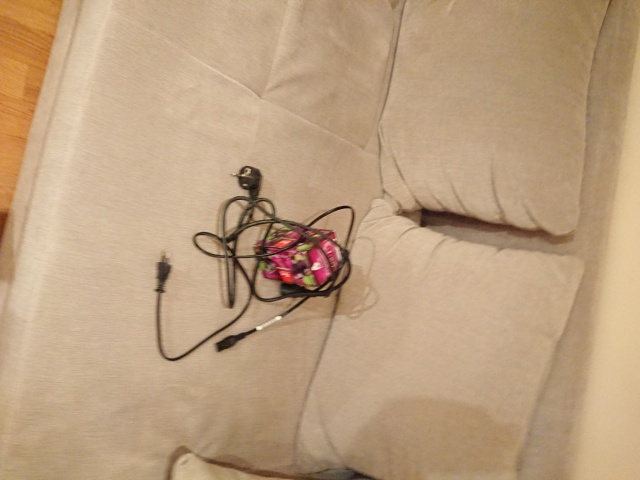Franck Black Currant Tea 60g: (250, 221, 348, 289)
